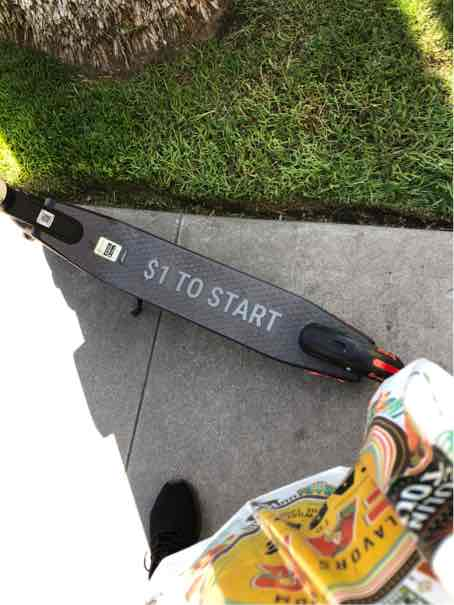scooter: (8, 22, 427, 468)
